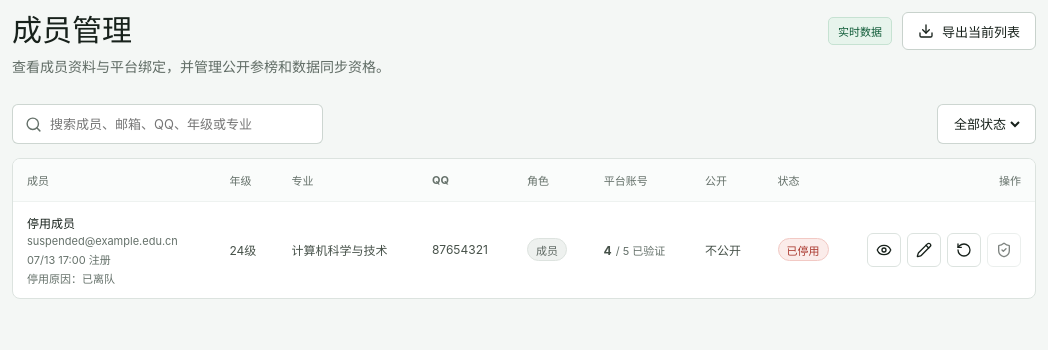
Test: AdminMembersPage with Supabase configured › restores a suspended member without reintroducing approval
The width and height of the screenshot is (1048, 350).
Click the button named "恢复 停用成员" at [964, 250], box [947,233,981,267]
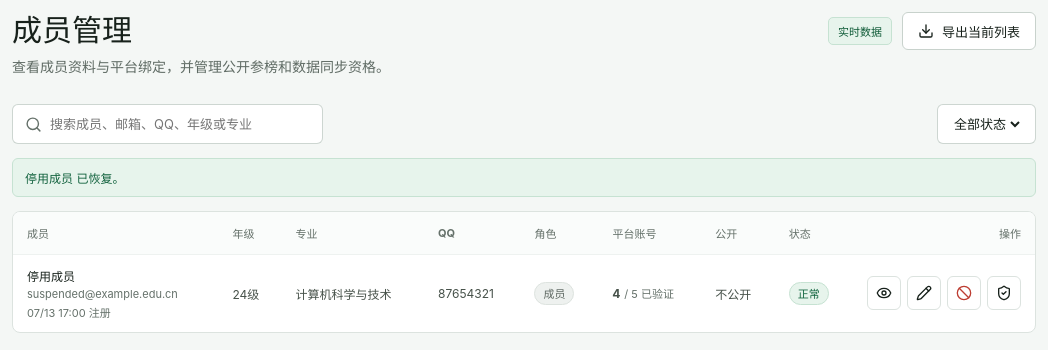
Check: the text "正常" is shown, box [789,282,829,305]
Check: the text "停用原因：已离队" is gone
